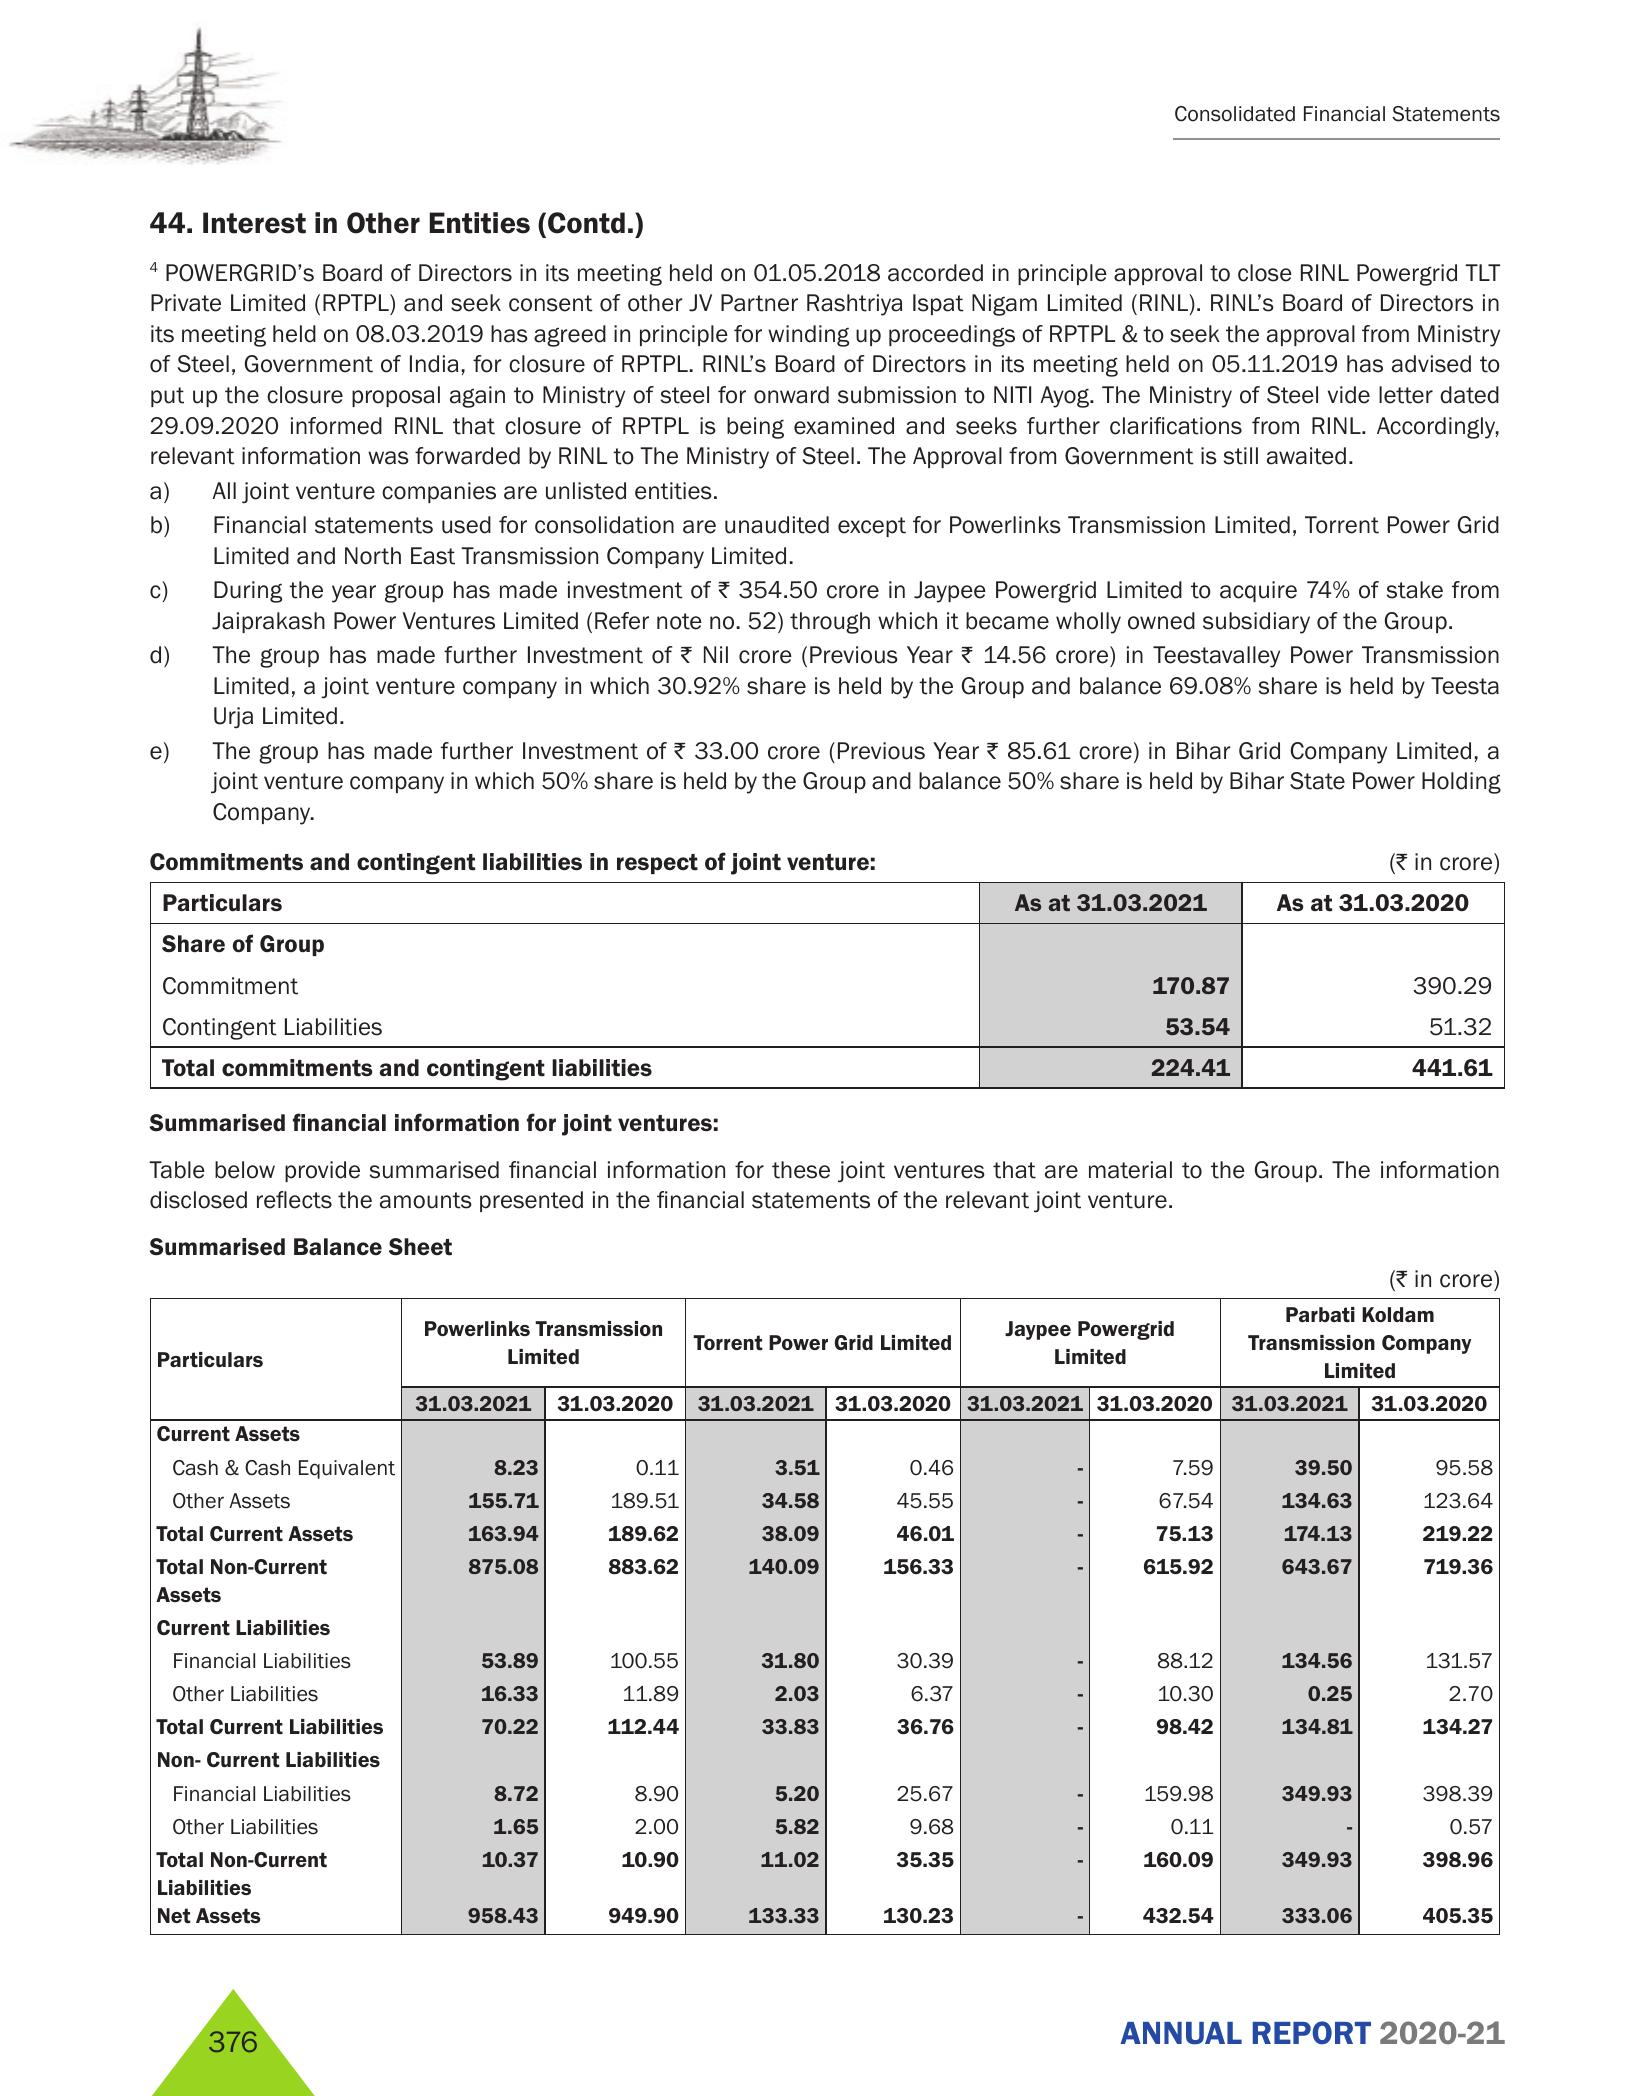Footer: (0, 1962, 1650, 2096)
Header: (0, 0, 1650, 175)
Table: (139, 1300, 1511, 1945), (143, 883, 1511, 1087)
